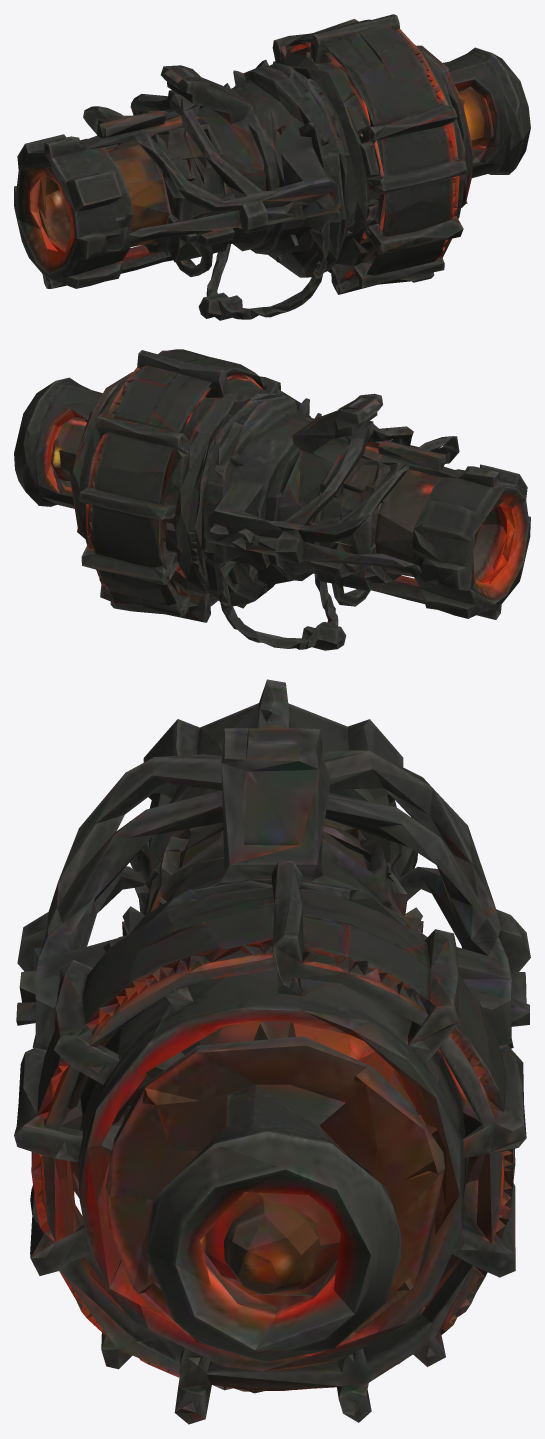
Rendered from mx_part_engine.glb.
The picture shows the model from 3 angles, top to bottom: view 1: azimuth 30°, elevation 25°; view 2: azimuth 150°, elevation 25°; view 3: azimuth 270°, elevation 25°; orthographic projection. The views are drawn at different scales.
Size of the model in its own units: 1.86 by 0.9791 by 0.9311.
Materials: 1 (1 with a texture image).
